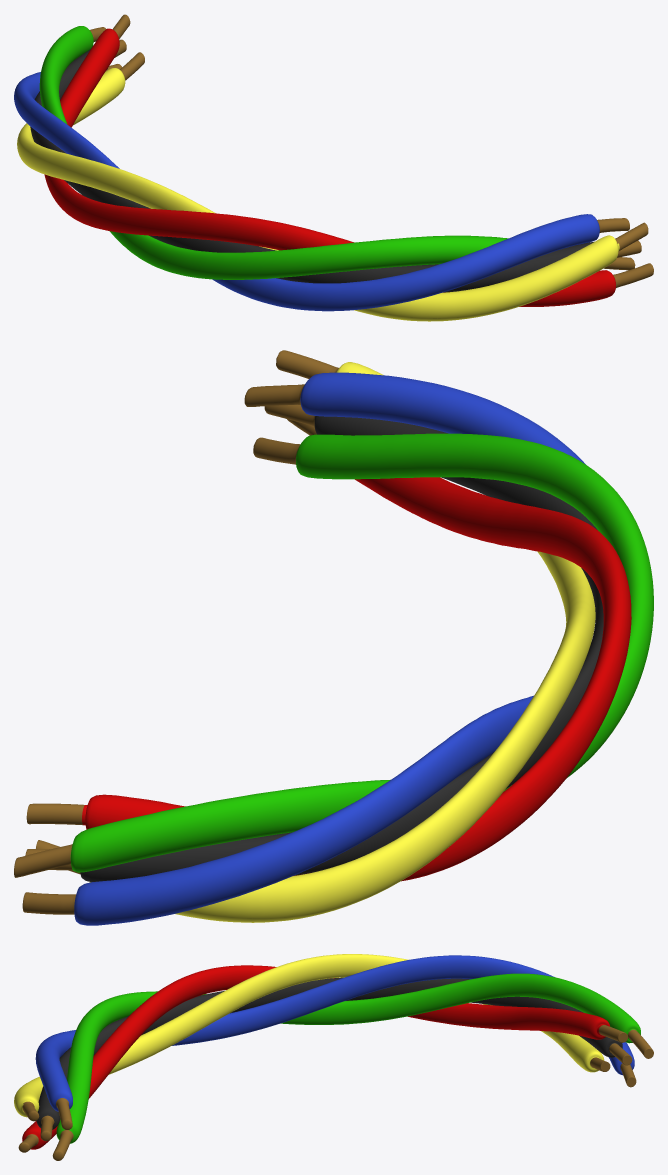
Rendered from Cable2.fbx.
3 renders of one model, top to bottom at view 1: azimuth 30°, elevation 25°; view 2: azimuth 150°, elevation 25°; view 3: azimuth 270°, elevation 25°, orthographic. The views are drawn at different scales.
Parts seen in each view (by area): view 1: pCylinder7; view 2: pCylinder7; view 3: pCylinder7.
Boxes of the visible parts, x1,y1,x2,y2 form: pCylinder7: (14, 14, 653, 321); pCylinder7: (14, 350, 653, 925); pCylinder7: (14, 954, 653, 1160).
Bounding box in the file's own units: 0.0673 × 0.0138 × 0.1162.
